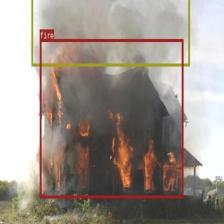fire: (40, 39, 184, 198)
smoke: (31, 0, 189, 65)
